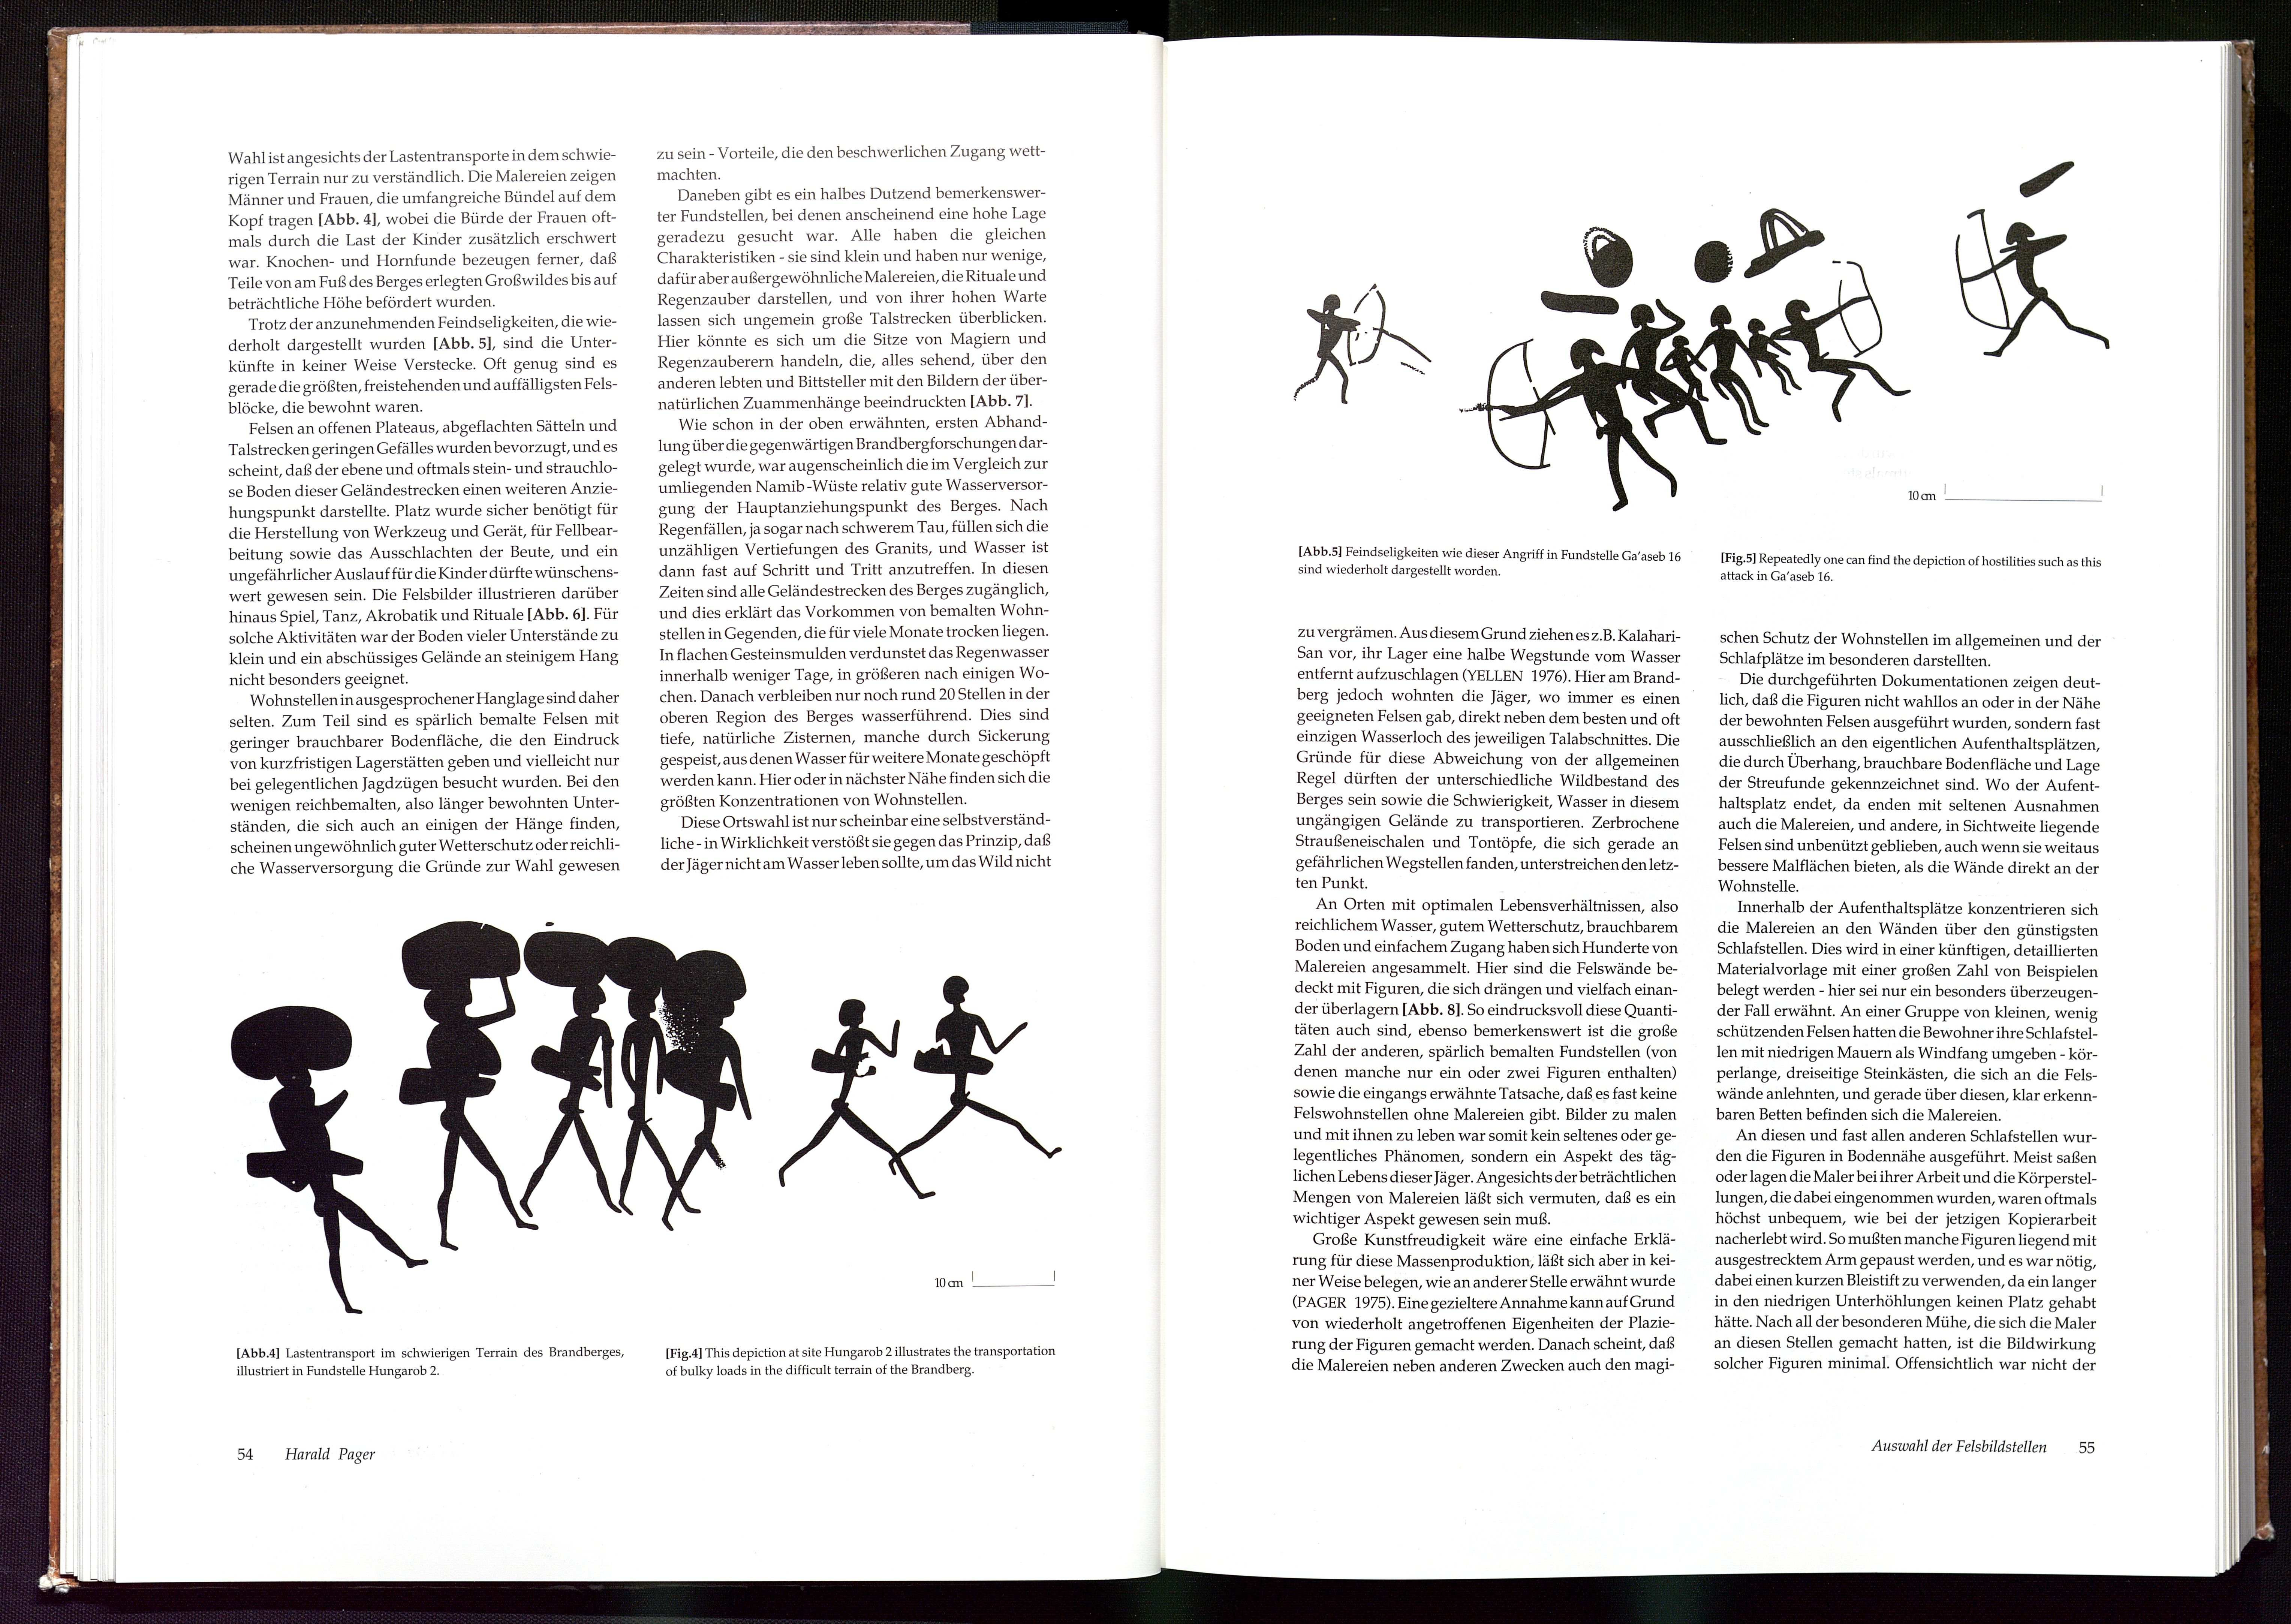human: (229, 1000, 430, 1318), (392, 916, 542, 1260), (887, 970, 1064, 1178), (772, 995, 939, 1208), (512, 928, 624, 1228), (1484, 338, 1679, 511), (599, 931, 704, 1238), (662, 946, 757, 1245), (1956, 219, 2116, 368), (1774, 288, 1914, 428), (1611, 301, 1731, 461), (1289, 288, 1359, 413), (1741, 313, 1806, 406), (1659, 328, 1719, 411)
